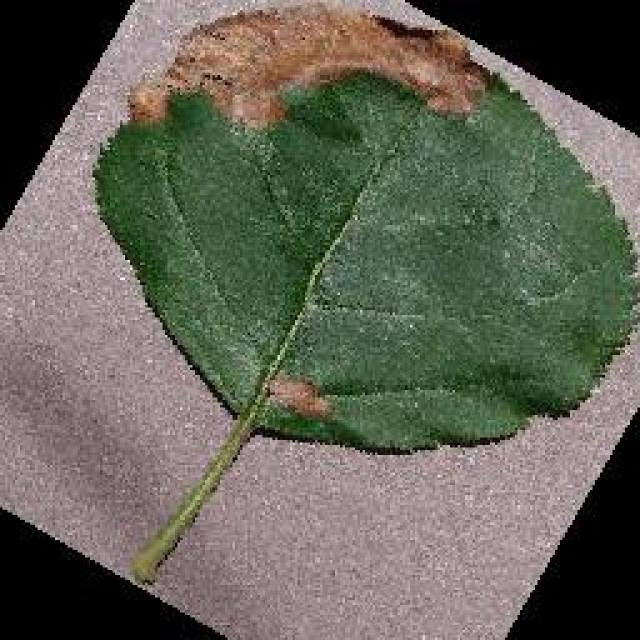black_rot: (128, 2, 506, 148), (262, 361, 349, 430)
